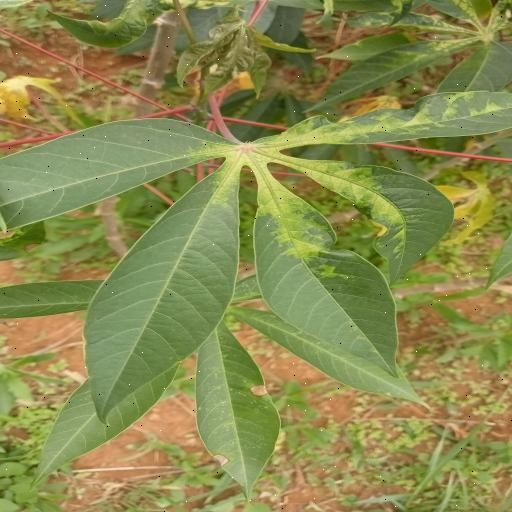Cassava_Mosaic: (5, 88, 512, 422)
